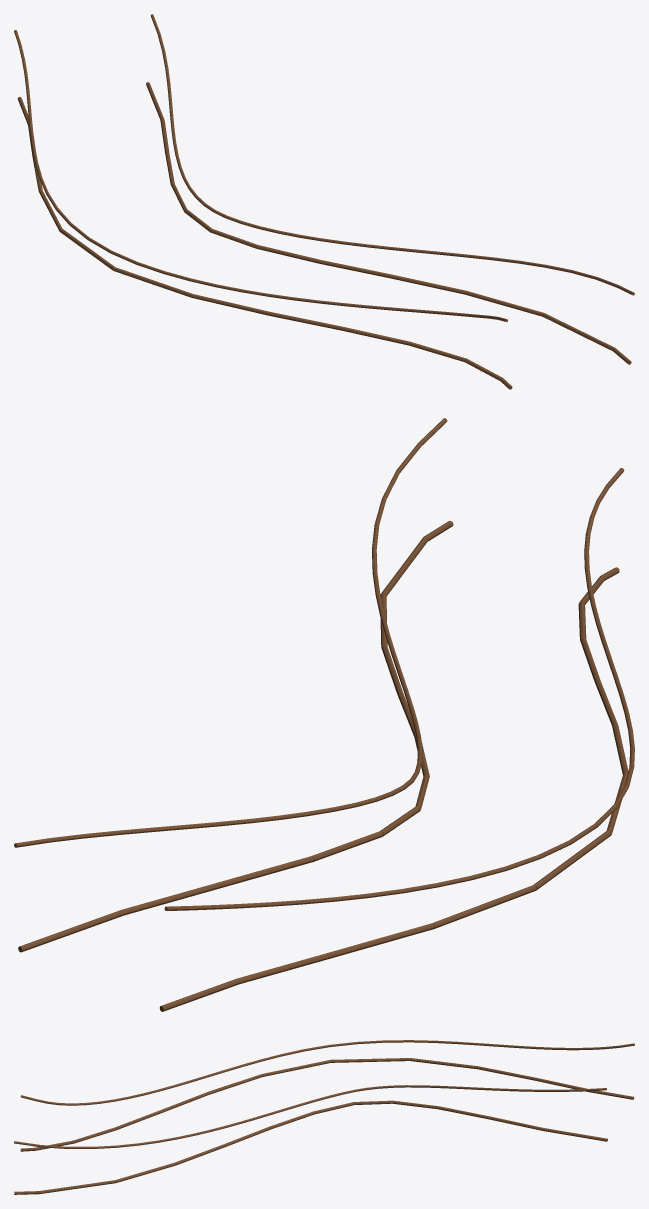
Rendered from Bridge_Timber_1.fbx.
3 renders of one model, top to bottom at view 1: azimuth 30°, elevation 25°; view 2: azimuth 150°, elevation 25°; view 3: azimuth 270°, elevation 25°, orthographic. The views are drawn at different scales.
Parts seen in each view (by area): view 1: Bridge_Timber_1; view 2: Bridge_Timber_1; view 3: Bridge_Timber_1.
Part boxes in pixels (x1,y1,x2,y2): Bridge_Timber_1: (14, 14, 634, 389); Bridge_Timber_1: (14, 418, 634, 1011); Bridge_Timber_1: (14, 1040, 634, 1194).
Bounding box in the file's own units: 17576 × 4770 × 37541.
